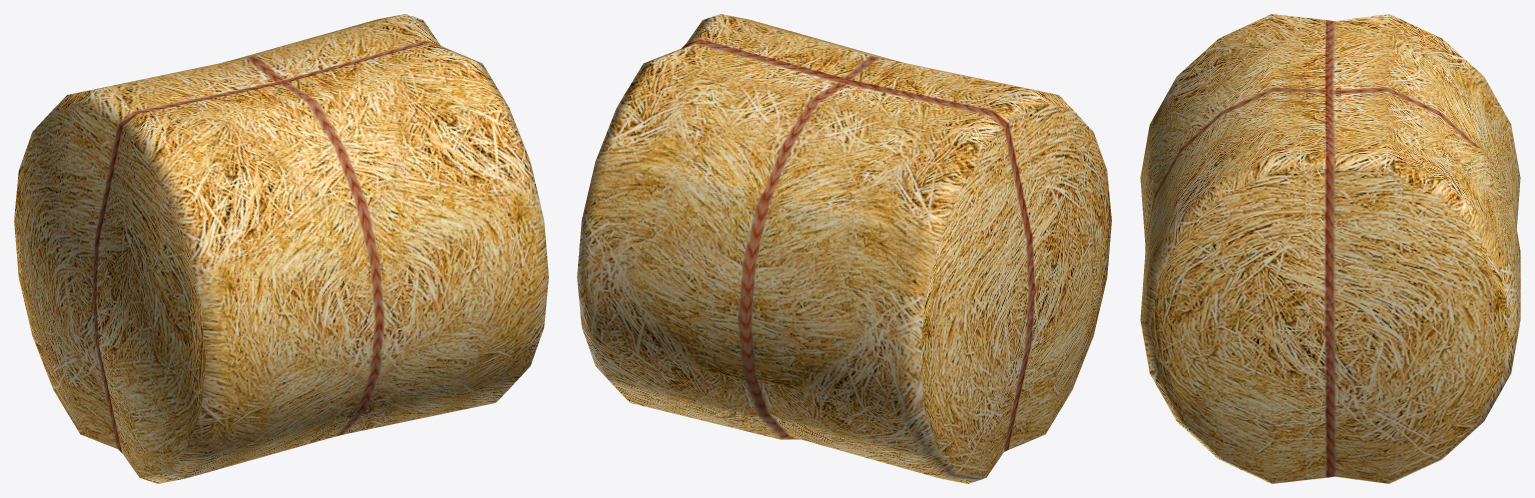
File: Hay.fbx
3 views of the same model, side by side, from view 1: azimuth 30°, elevation 25°; view 2: azimuth 150°, elevation 25°; view 3: azimuth 270°, elevation 25° (orthographic). The views are drawn at different scales.
Visible parts, largest first — view 1: pCylinder1; view 2: pCylinder1; view 3: pCylinder1.
Part boxes in pixels (box(x1,y1,x2,y2)): pCylinder1: box(14, 14, 548, 483); pCylinder1: box(577, 14, 1111, 483); pCylinder1: box(1140, 14, 1520, 483).
Size of the model in its own units: 88.85 by 78.22 by 82.25.
1 material, 1 textured.
